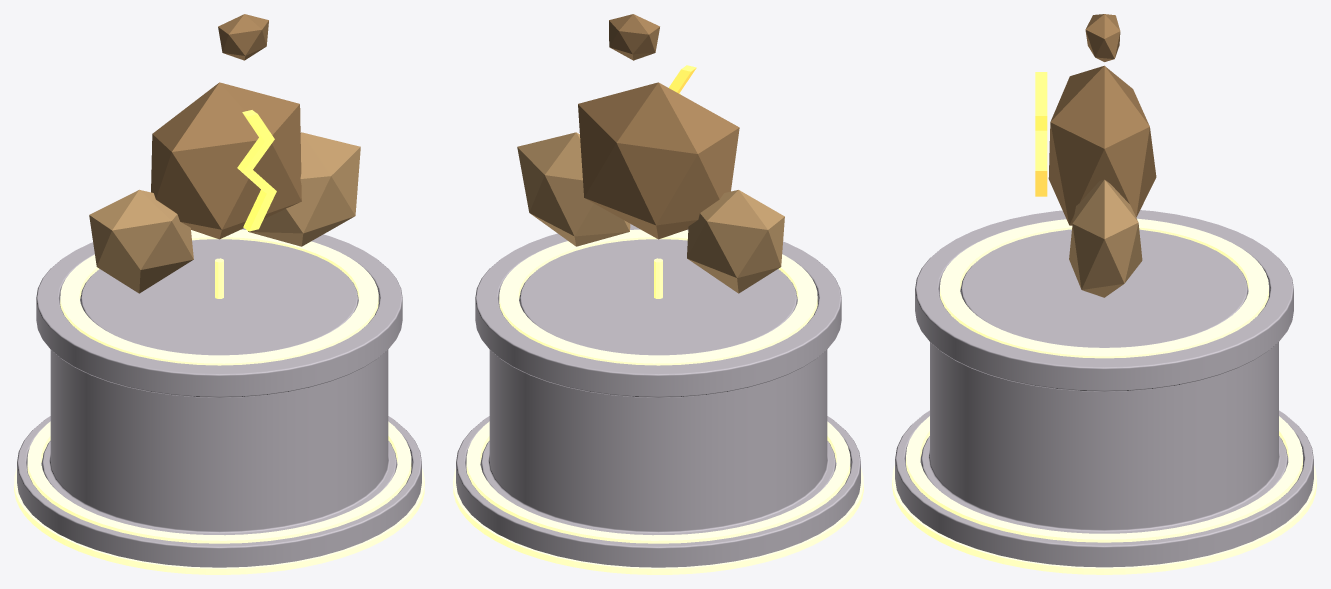
The model's file is Lobby_PED_Earth.fbx.
3 views of the same model, side by side, from view 1: azimuth 30°, elevation 25°; view 2: azimuth 150°, elevation 25°; view 3: azimuth 270°, elevation 25° (orthographic). The views are drawn at different scales.
Visible parts, largest first — view 1: PedestalMarble__Earth, Glyph_EarthRock__Earth, Glyph_EarthRockLight__Earth, PedNeon_Earth__Earth_TopNeon, PedNeon_Earth__Earth_BaseNeon, PedNeon_Earth__Earth_BaseNeonEdge, Glyph_EarthSeam__EarthCrack, Glyph_EarthRock__EarthChip; view 2: PedestalMarble__Earth, Glyph_EarthRock__Earth, Glyph_EarthRockLight__Earth, PedNeon_Earth__Earth_TopNeon, PedNeon_Earth__Earth_BaseNeon, PedNeon_Earth__Earth_BaseNeonEdge, Glyph_EarthRock__EarthChip; view 3: PedestalMarble__Earth, Glyph_EarthRock__Earth, PedNeon_Earth__Earth_TopNeon, PedNeon_Earth__Earth_BaseNeon, Glyph_EarthRockLight__Earth, PedNeon_Earth__Earth_BaseNeonEdge, Glyph_EarthSeam__EarthCrack, Glyph_EarthRock__EarthChip.
Boxes of the visible parts, x1,y1,x2,y2 form: PedestalMarble__Earth: (17, 228, 421, 567); Glyph_EarthRock__Earth: (151, 82, 301, 239); Glyph_EarthRockLight__Earth: (89, 132, 360, 293); PedNeon_Earth__Earth_TopNeon: (60, 229, 378, 365); PedNeon_Earth__Earth_BaseNeon: (27, 421, 411, 543); PedNeon_Earth__Earth_BaseNeonEdge: (14, 468, 424, 574); Glyph_EarthSeam__EarthCrack: (237, 110, 276, 231); Glyph_EarthRock__EarthChip: (218, 14, 268, 60); PedestalMarble__Earth: (456, 224, 860, 567); Glyph_EarthRock__Earth: (578, 82, 739, 239); Glyph_EarthRockLight__Earth: (517, 132, 784, 293); PedNeon_Earth__Earth_TopNeon: (499, 229, 817, 365); PedNeon_Earth__Earth_BaseNeon: (466, 421, 850, 543); PedNeon_Earth__Earth_BaseNeonEdge: (453, 468, 863, 574); Glyph_EarthRock__EarthChip: (609, 14, 659, 60); PedestalMarble__Earth: (895, 210, 1313, 567); Glyph_EarthRock__Earth: (1048, 65, 1156, 225); PedNeon_Earth__Earth_TopNeon: (940, 218, 1268, 358); PedNeon_Earth__Earth_BaseNeon: (906, 416, 1302, 542); Glyph_EarthRockLight__Earth: (1069, 179, 1142, 297); PedNeon_Earth__Earth_BaseNeonEdge: (892, 465, 1316, 574); Glyph_EarthSeam__EarthCrack: (1035, 72, 1047, 196); Glyph_EarthRock__EarthChip: (1085, 14, 1120, 61).
Size of the model in its own units: 4.26 by 5.37 by 4.26.
